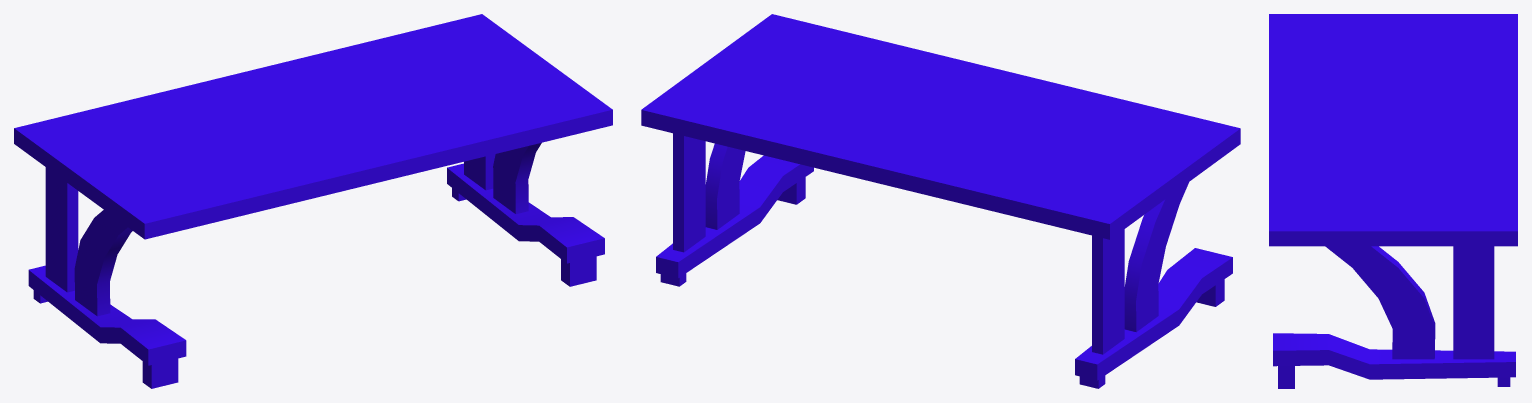
Rendered from office_pack_table_large_3_meshCollider.fbx.
The picture shows the model from 3 angles, left to right: view 1: azimuth 30°, elevation 25°; view 2: azimuth 150°, elevation 25°; view 3: azimuth 270°, elevation 25°; orthographic projection. The views are drawn at different scales.
Visible parts, largest first — view 1: office_pack_table_large_3_meshCollider; view 2: office_pack_table_large_3_meshCollider; view 3: office_pack_table_large_3_meshCollider.
Part boxes in pixels (x1,y1,x2,y2): office_pack_table_large_3_meshCollider: [14, 14, 612, 388]; office_pack_table_large_3_meshCollider: [641, 14, 1240, 388]; office_pack_table_large_3_meshCollider: [1269, 14, 1517, 388].
Size of the model in its own units: 125 by 43.76 by 60.52.
